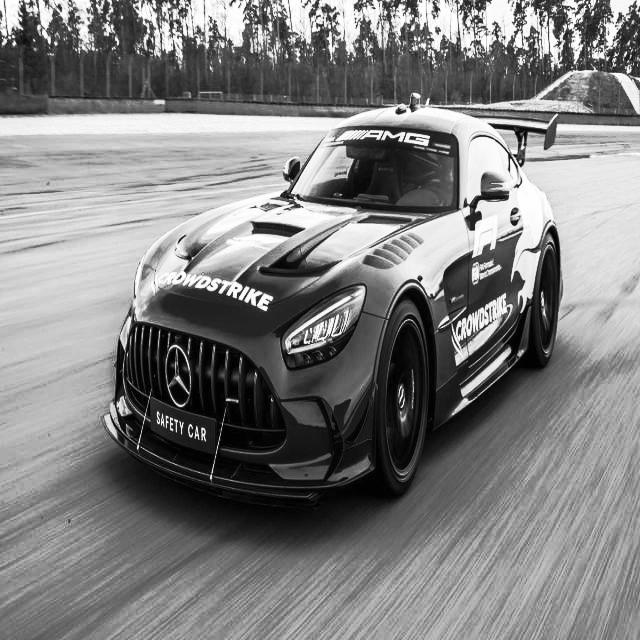Car: (105, 83, 574, 517)
